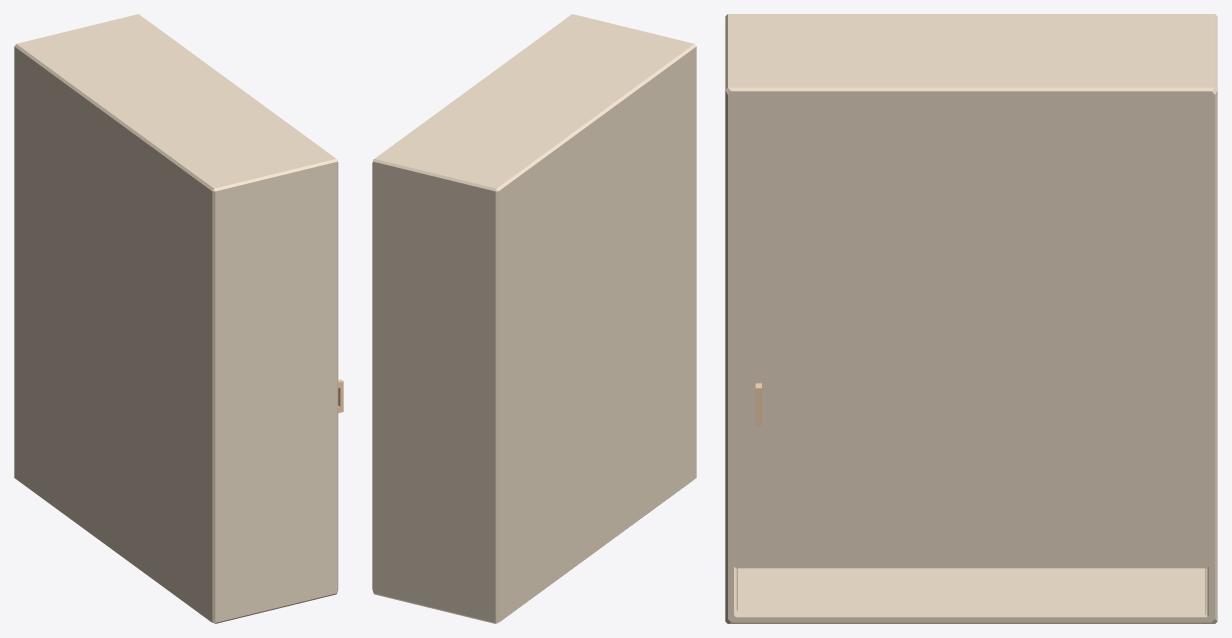
File: schrank.fbx
3 views of the same model, side by side, from view 1: azimuth 30°, elevation 25°; view 2: azimuth 150°, elevation 25°; view 3: azimuth 270°, elevation 25° (orthographic). The views are drawn at different scales.
Parts seen in each view (by area): view 1: Wardrobe.001; view 2: Wardrobe.001; view 3: Wardrobe.001.
Part boxes in pixels (x1=…): Wardrobe.001: x1=14, y1=14, x2=338, y2=623; Wardrobe.001: x1=372, y1=14, x2=696, y2=623; Wardrobe.001: x1=725, y1=14, x2=1217, y2=623.
Size of the model in its own units: 201 by 585 by 486.
